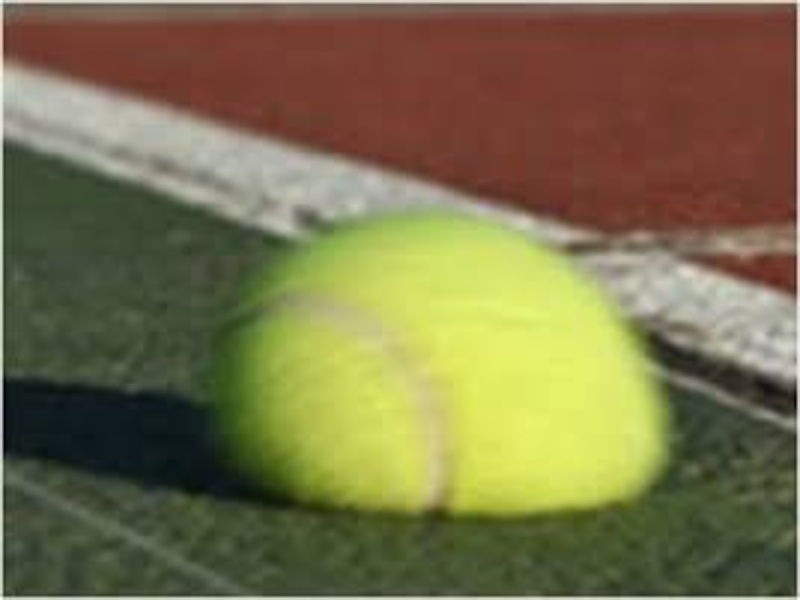tennis ball: (211, 215, 695, 509)
